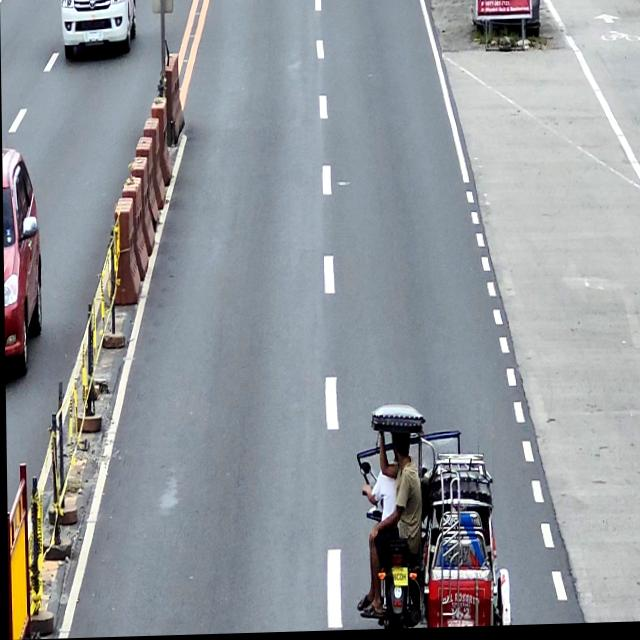Car: (2, 146, 44, 377), (61, 0, 138, 62)
License-Plate: (388, 569, 406, 590), (82, 31, 104, 43)
Tricycle: (356, 406, 511, 632)
